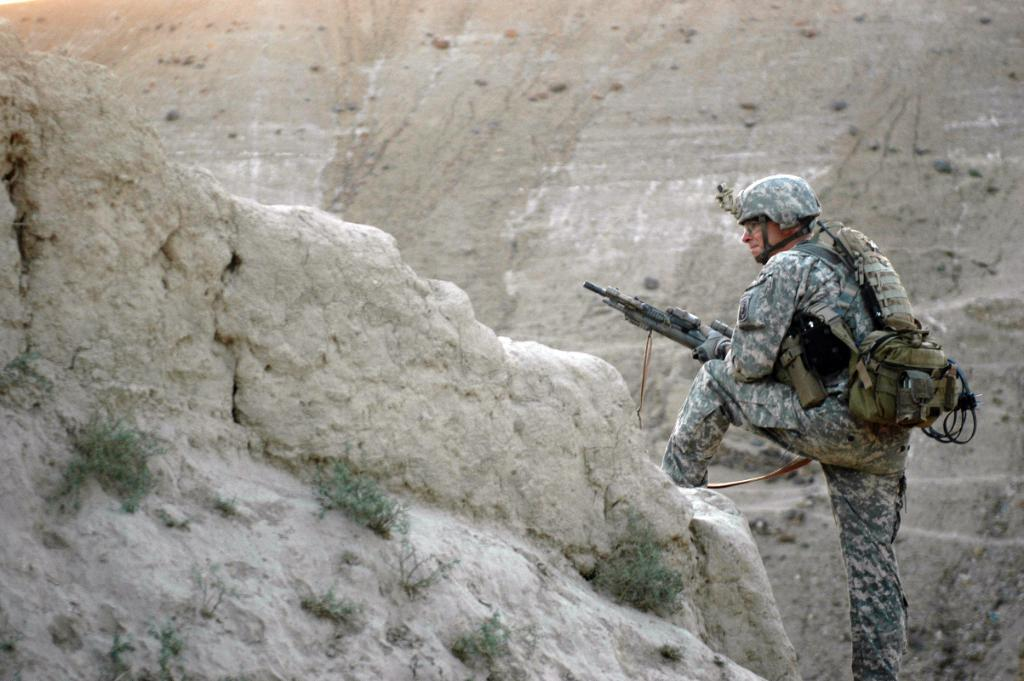Rifle: (611, 283, 818, 466)
